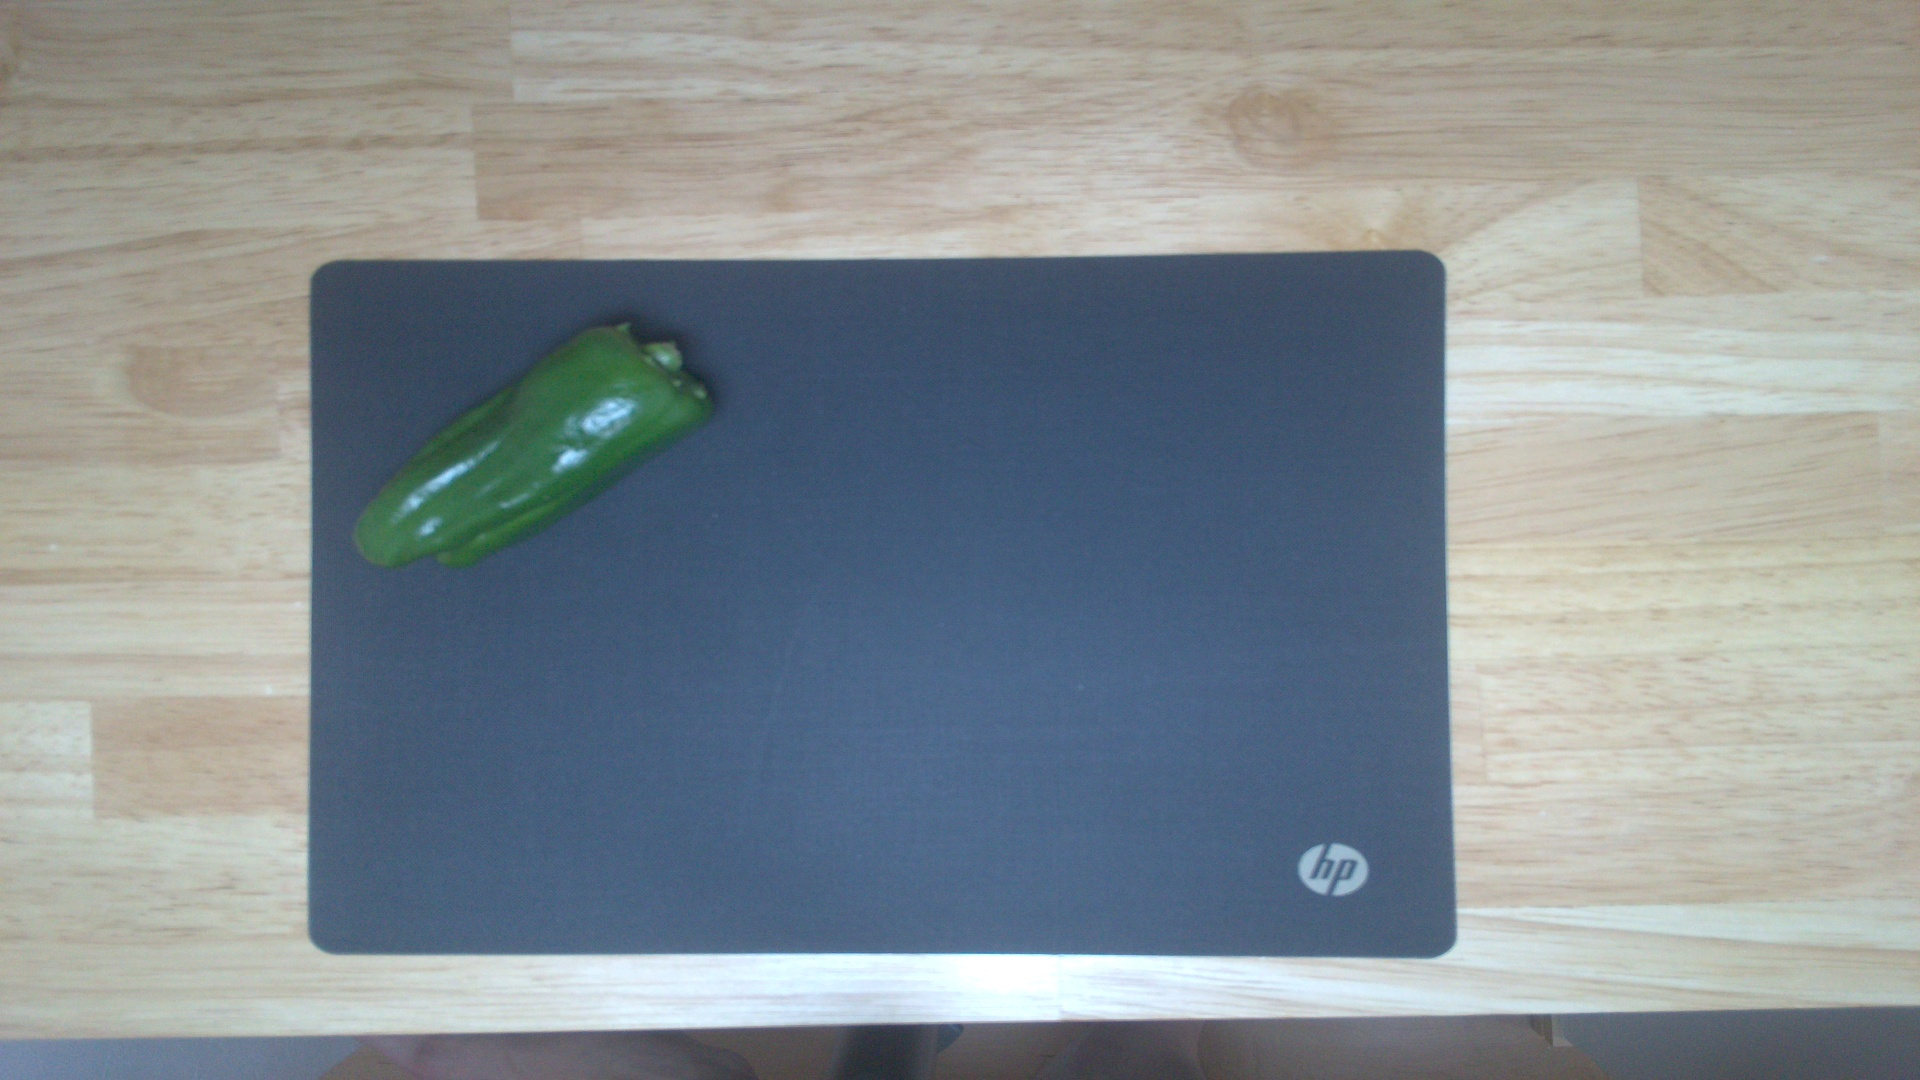Piman: (351, 315, 715, 572)
